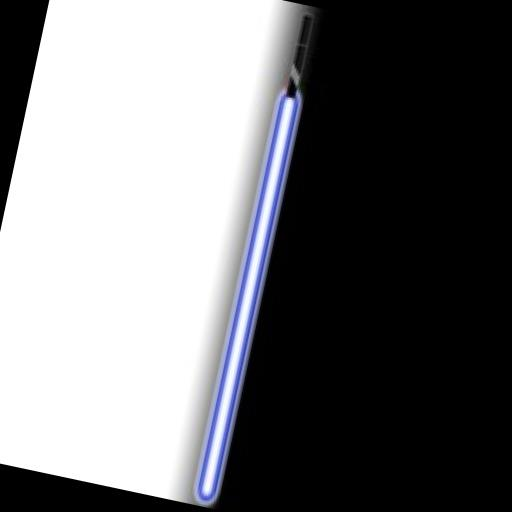lightsaber: (188, 9, 323, 506)
